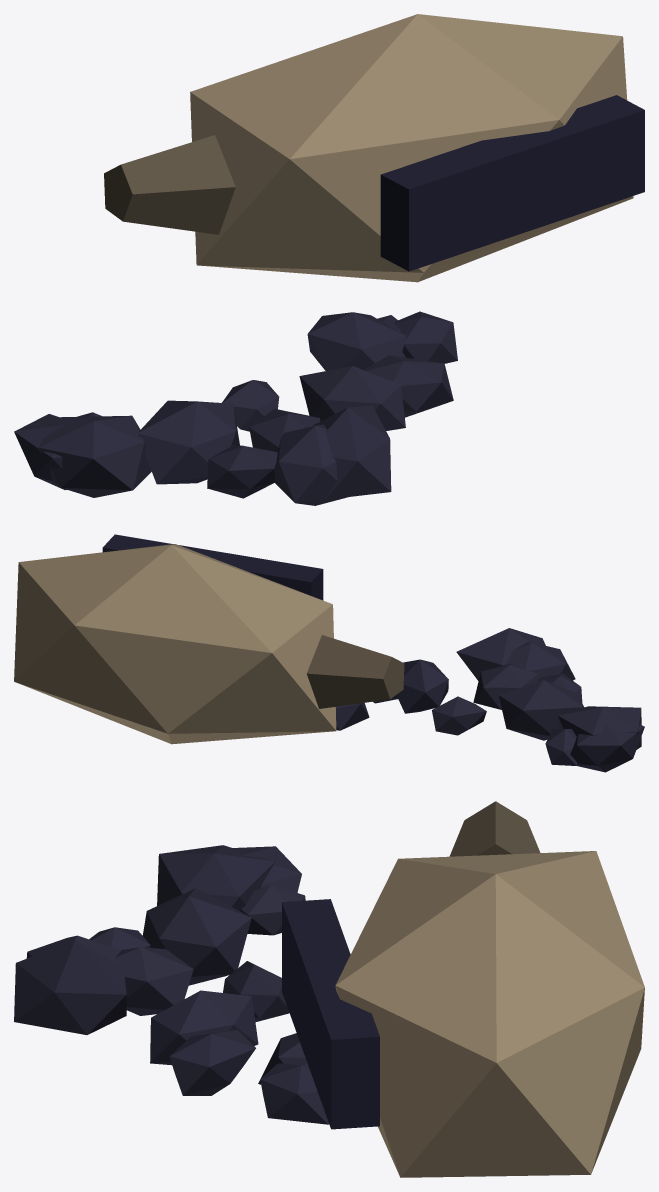
Rendered from sack_dropped.glb.
3 views of the same model, one above another, from view 1: azimuth 30°, elevation 25°; view 2: azimuth 150°, elevation 25°; view 3: azimuth 270°, elevation 25° (orthographic). The views are drawn at different scales.
Parts seen in each view (by area): view 1: driftwood_d25, ink_l5, ink, driftwood_d55; view 2: driftwood_d25, ink_l5, driftwood_d55, ink; view 3: driftwood_d25, ink_l5, ink, driftwood_d55.
Part boxes in pixels (x1,y1,x2,y2): driftwood_d25: [190, 14, 633, 282]; ink_l5: [14, 311, 457, 505]; ink: [380, 95, 644, 271]; driftwood_d55: [104, 135, 235, 234]; driftwood_d25: [14, 544, 336, 744]; ink_l5: [335, 628, 644, 772]; driftwood_d55: [306, 635, 404, 708]; ink: [102, 534, 323, 600]; driftwood_d25: [335, 851, 644, 1177]; ink_l5: [14, 845, 328, 1124]; ink: [282, 899, 379, 1129]; driftwood_d55: [449, 801, 540, 856].
Size of the model in its own units: 1.09 by 0.4093 by 0.766.
